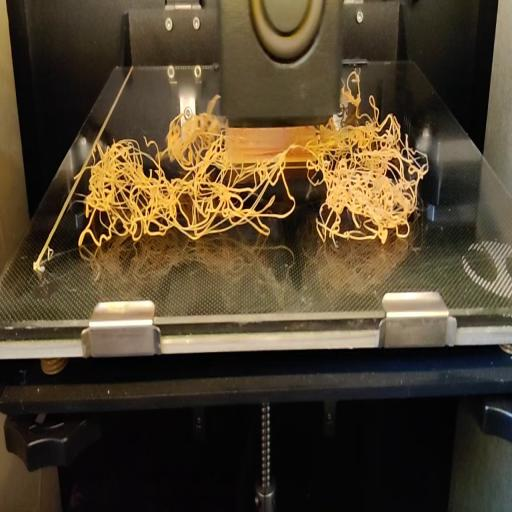spaghetti: (73, 117, 430, 251), (341, 68, 379, 118)
